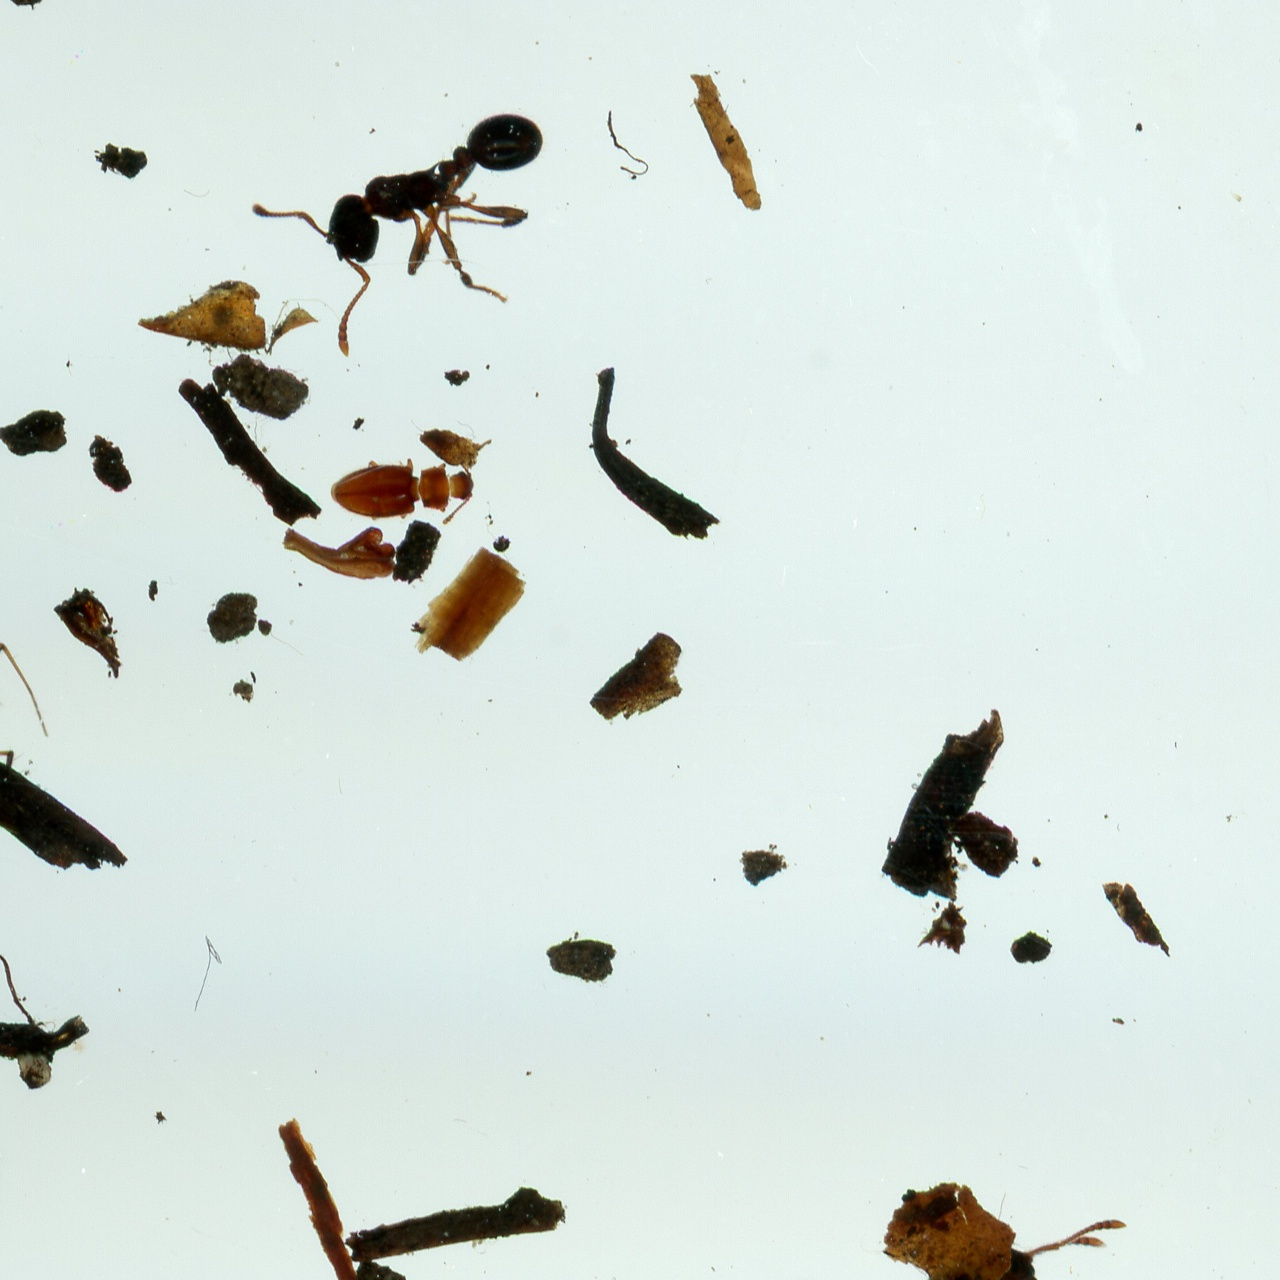arthropod: (243, 79, 612, 389), (822, 1138, 1132, 1280), (0, 618, 110, 947), (325, 452, 477, 529)
